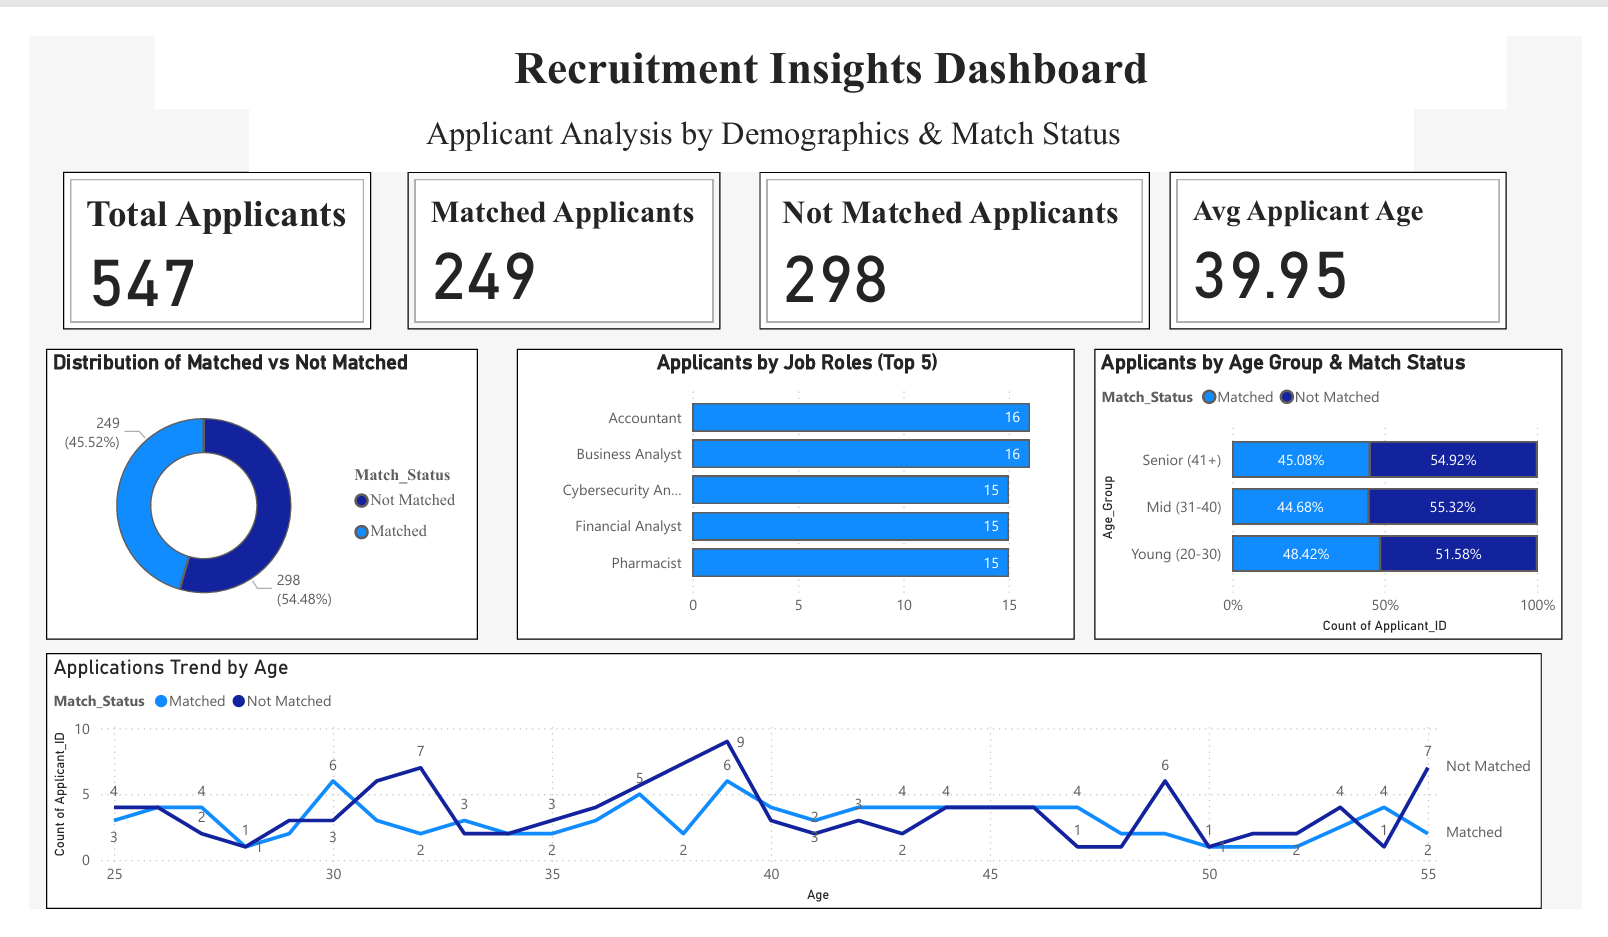

What the dashboard file says about the page in this screenshot:
{"tool":"powerbi","page":{"name":"Page 1","canvas":[1280,720],"ordinal":0},"visuals":[{"type":"cardVisual","title":"Total Applicants","fields":{"Data":["recruitmentdb recruitment.Total Applicants"]},"box":[28,112,254,130],"z":0},{"type":"cardVisual","title":"Matched Applicants","fields":{"Data":["recruitmentdb recruitment.Matched Applicants"]},"box":[312,112,258,130],"z":1000},{"type":"cardVisual","title":"Unmatched Applicants","fields":{"Data":["recruitmentdb recruitment.Not Matched Applicants"]},"box":[602,112,322,130],"z":2000},{"type":"textbox","box":[104,0,1114,60],"z":3000},{"type":"textbox","box":[182,60,960,52],"z":4000},{"type":"cardVisual","fields":{"Data":["recruitmentdb recruitment.Avg Applicant Age"]},"box":[940,112,278,130],"z":5000},{"type":"donutChart","title":"Distribution of Matched vs Not Matched","fields":{"Category":["recruitmentdb recruitment.Match_Status"],"Y":["CountNonNull(recruitmentdb recruitment.Applicant_ID)"]},"box":[14,258,356,240],"z":6000},{"type":"barChart","title":"Applicants by Job Roles (Top 5)","fields":{"Category":["recruitmentdb recruitment.Job_Roles"],"Y":["CountNonNull(recruitmentdb recruitment.Applicant_ID)"]},"box":[402,258,460,240],"z":7000},{"type":"hundredPercentStackedBarChart","title":"Applicants by Age Group & Match Status","fields":{"Category":["recruitmentdb recruitment.Age_Group"],"Y":["CountNonNull(recruitmentdb recruitment.Applicant_ID)"],"Series":["recruitmentdb recruitment.Match_Status"]},"box":[878,258,386,240],"z":8000},{"type":"lineChart","title":"Applications Trend by Age","fields":{"Category":["recruitmentdb recruitment.Age"],"Y":["CountNonNull(recruitmentdb recruitment.Applicant_ID)"],"Series":["recruitmentdb recruitment.Match_Status"]},"box":[14.3,508.6,1232.9,211.4],"z":9000}]}

Visuals, with their boxes on the page's 1280x720 design canvas (x1, y1, x2, y2). These are canvas units, not pixel positions in the 1608x937 screenshot, which may show the page scaled, cropped or inside an application window:
"Total Applicants" cardVisual: (28, 112, 282, 242)
"Matched Applicants" cardVisual: (312, 112, 570, 242)
"Unmatched Applicants" cardVisual: (602, 112, 924, 242)
textbox: (104, 0, 1218, 60)
textbox: (182, 60, 1142, 112)
cardVisual - recruitmentdb recruitment.Avg Applicant Age: (940, 112, 1218, 242)
"Distribution of Matched vs Not Matched" donutChart: (14, 258, 370, 498)
"Applicants by Job Roles (Top 5)" barChart: (402, 258, 862, 498)
"Applicants by Age Group & Match Status" hundredPercentStackedBarChart: (878, 258, 1264, 498)
"Applications Trend by Age" lineChart: (14, 509, 1247, 720)
